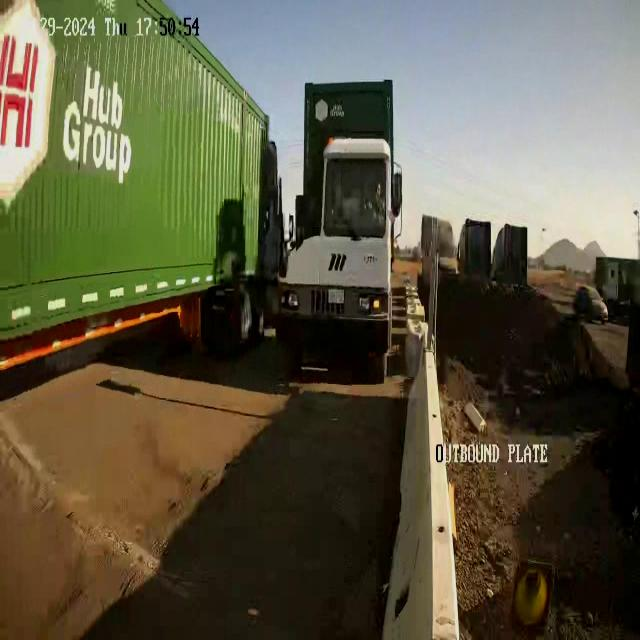TRUCK_CONTAINER: (0, 0, 279, 371), (276, 75, 405, 389)
